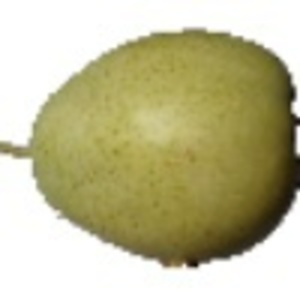pera: (1, 27, 300, 272)
